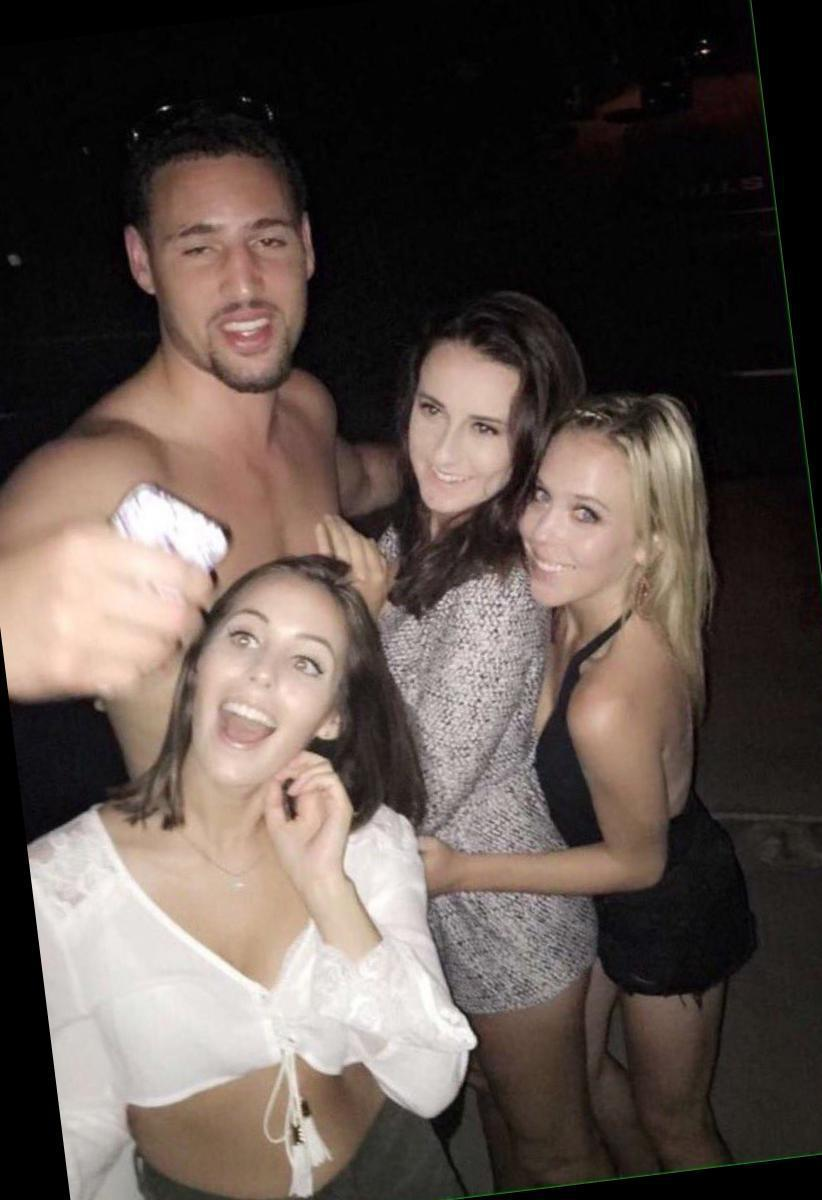Drunk: (166, 156, 303, 382), (193, 596, 341, 769), (403, 348, 529, 504), (526, 431, 631, 605)
